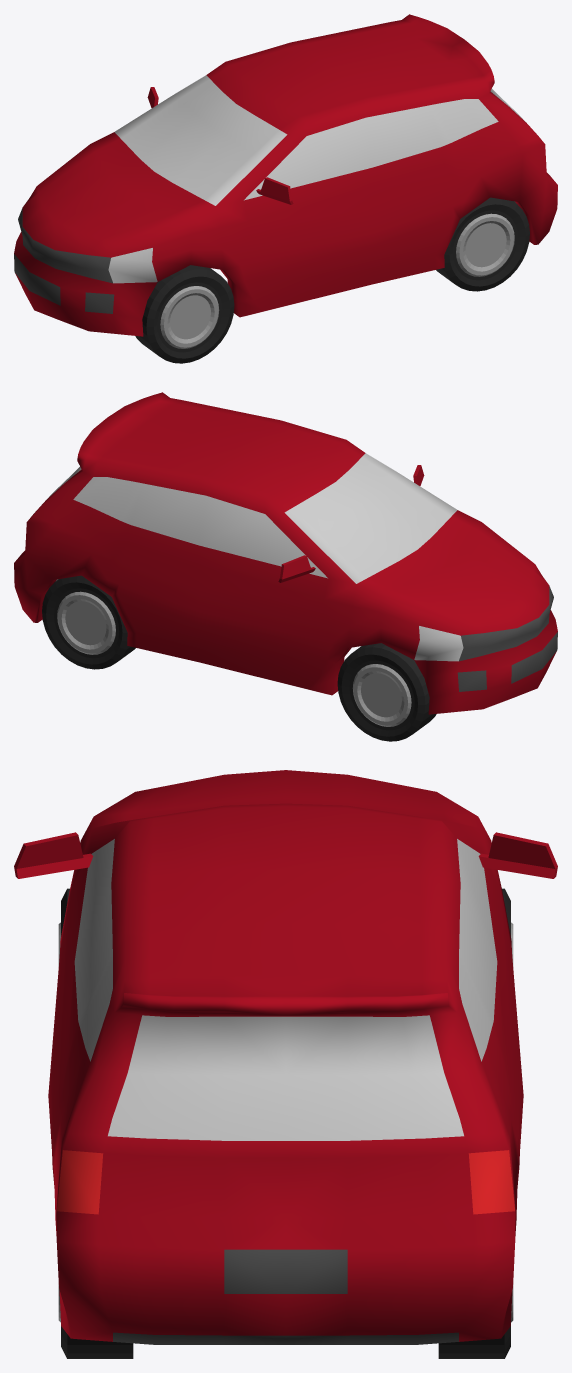
Rendered from Honda Brio Merah.fbx.
3 renders of one model, top to bottom at view 1: azimuth 30°, elevation 25°; view 2: azimuth 150°, elevation 25°; view 3: azimuth 270°, elevation 25°, orthographic. The views are drawn at different scales.
Parts seen in each view (by area): view 1: Cube, Cylinder, Cube.001; view 2: Cube, Cylinder, Cube.001; view 3: Cube, Cube.001, Cylinder.
Part boxes in pixels (<box>): Cube: <box>14,14,557,336</box>; Cylinder: <box>135,197,529,363</box>; Cube.001: <box>147,87,293,204</box>; Cube: <box>14,392,557,714</box>; Cylinder: <box>42,575,436,741</box>; Cube.001: <box>278,465,424,582</box>; Cube: <box>48,770,523,1344</box>; Cube.001: <box>14,832,557,878</box>; Cylinder: <box>58,888,513,1358</box>.
Size of the model in its own units: 1783 by 728 by 920.
